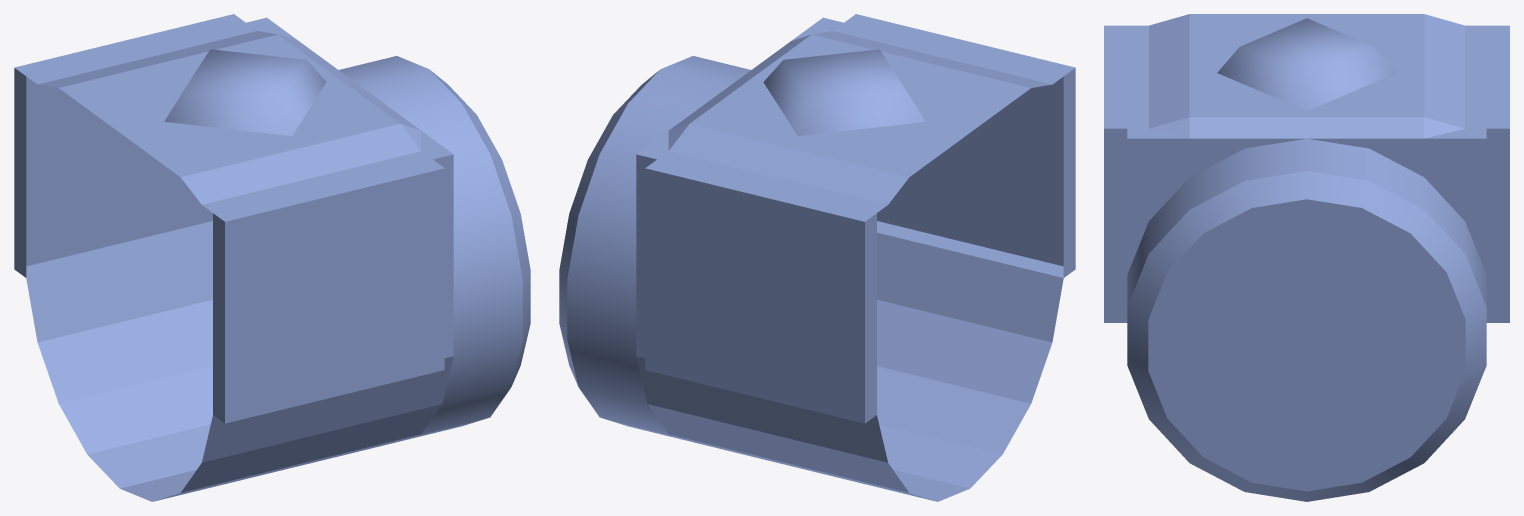
Rendered from 03_StartEnd.FBX.
3 renders of one model, left to right at view 1: azimuth 30°, elevation 25°; view 2: azimuth 150°, elevation 25°; view 3: azimuth 270°, elevation 25°, orthographic. The views are drawn at different scales.
Parts seen in each view (by area): view 1: Cylinder029; view 2: Cylinder029; view 3: Cylinder029.
Part boxes in pixels (x1,y1,x2,y2): Cylinder029: (14, 14, 530, 501); Cylinder029: (559, 14, 1075, 501); Cylinder029: (1104, 14, 1509, 501).
Bounding box in the file's own units: 9 × 10.03 × 10.
